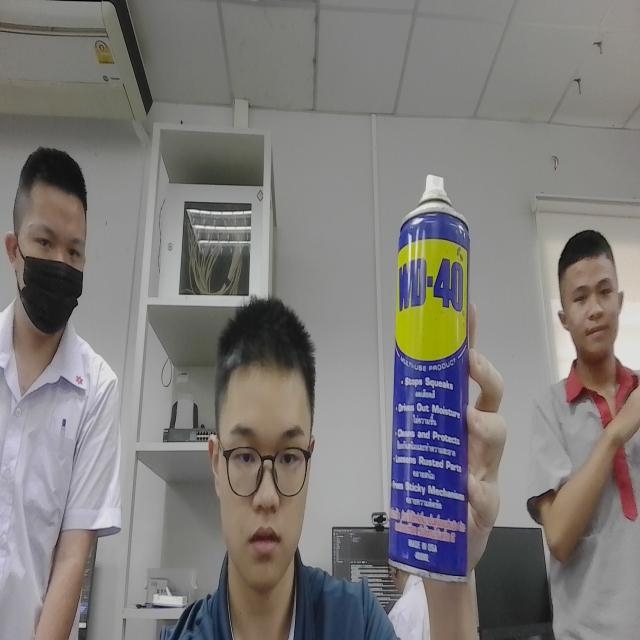wd-40: (379, 146, 478, 596)
